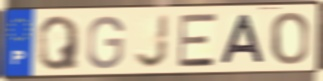A: (219, 12, 268, 66)
E: (176, 12, 218, 69)
G: (85, 14, 126, 71)
J: (133, 12, 171, 70)
O: (269, 10, 310, 67)
Q: (37, 14, 82, 72)
